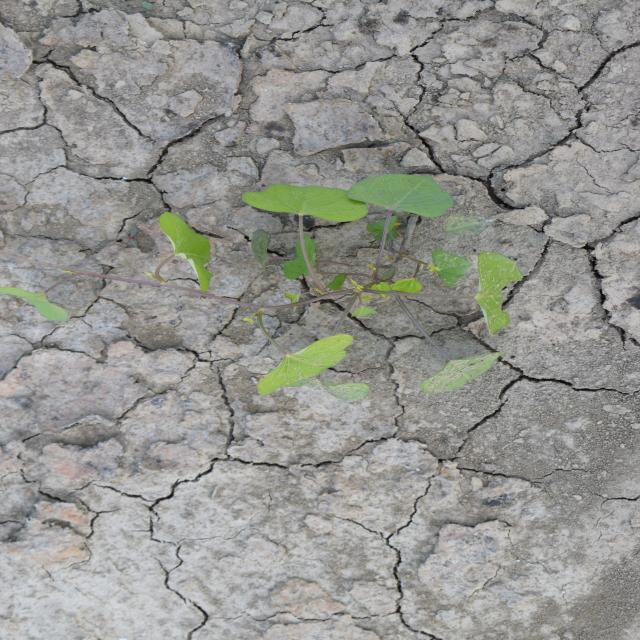MorningGlory: (2, 173, 526, 405)
